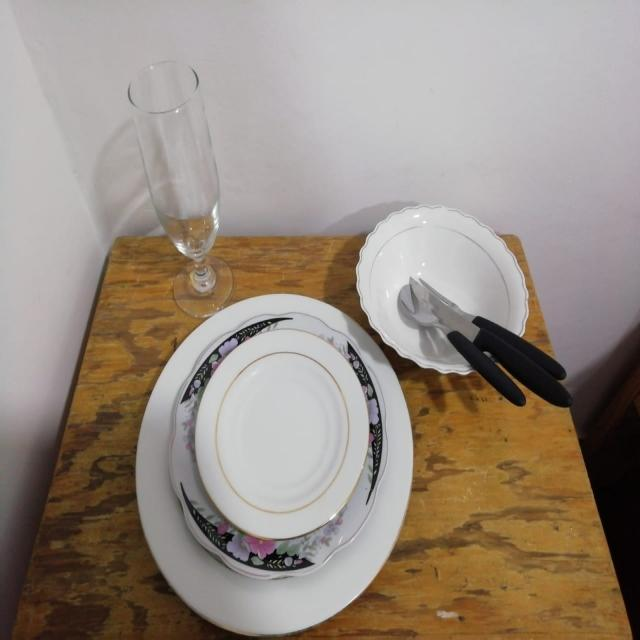ceramic plate: (171, 298, 458, 640), (128, 360, 430, 640), (334, 236, 520, 408), (208, 310, 338, 547)
